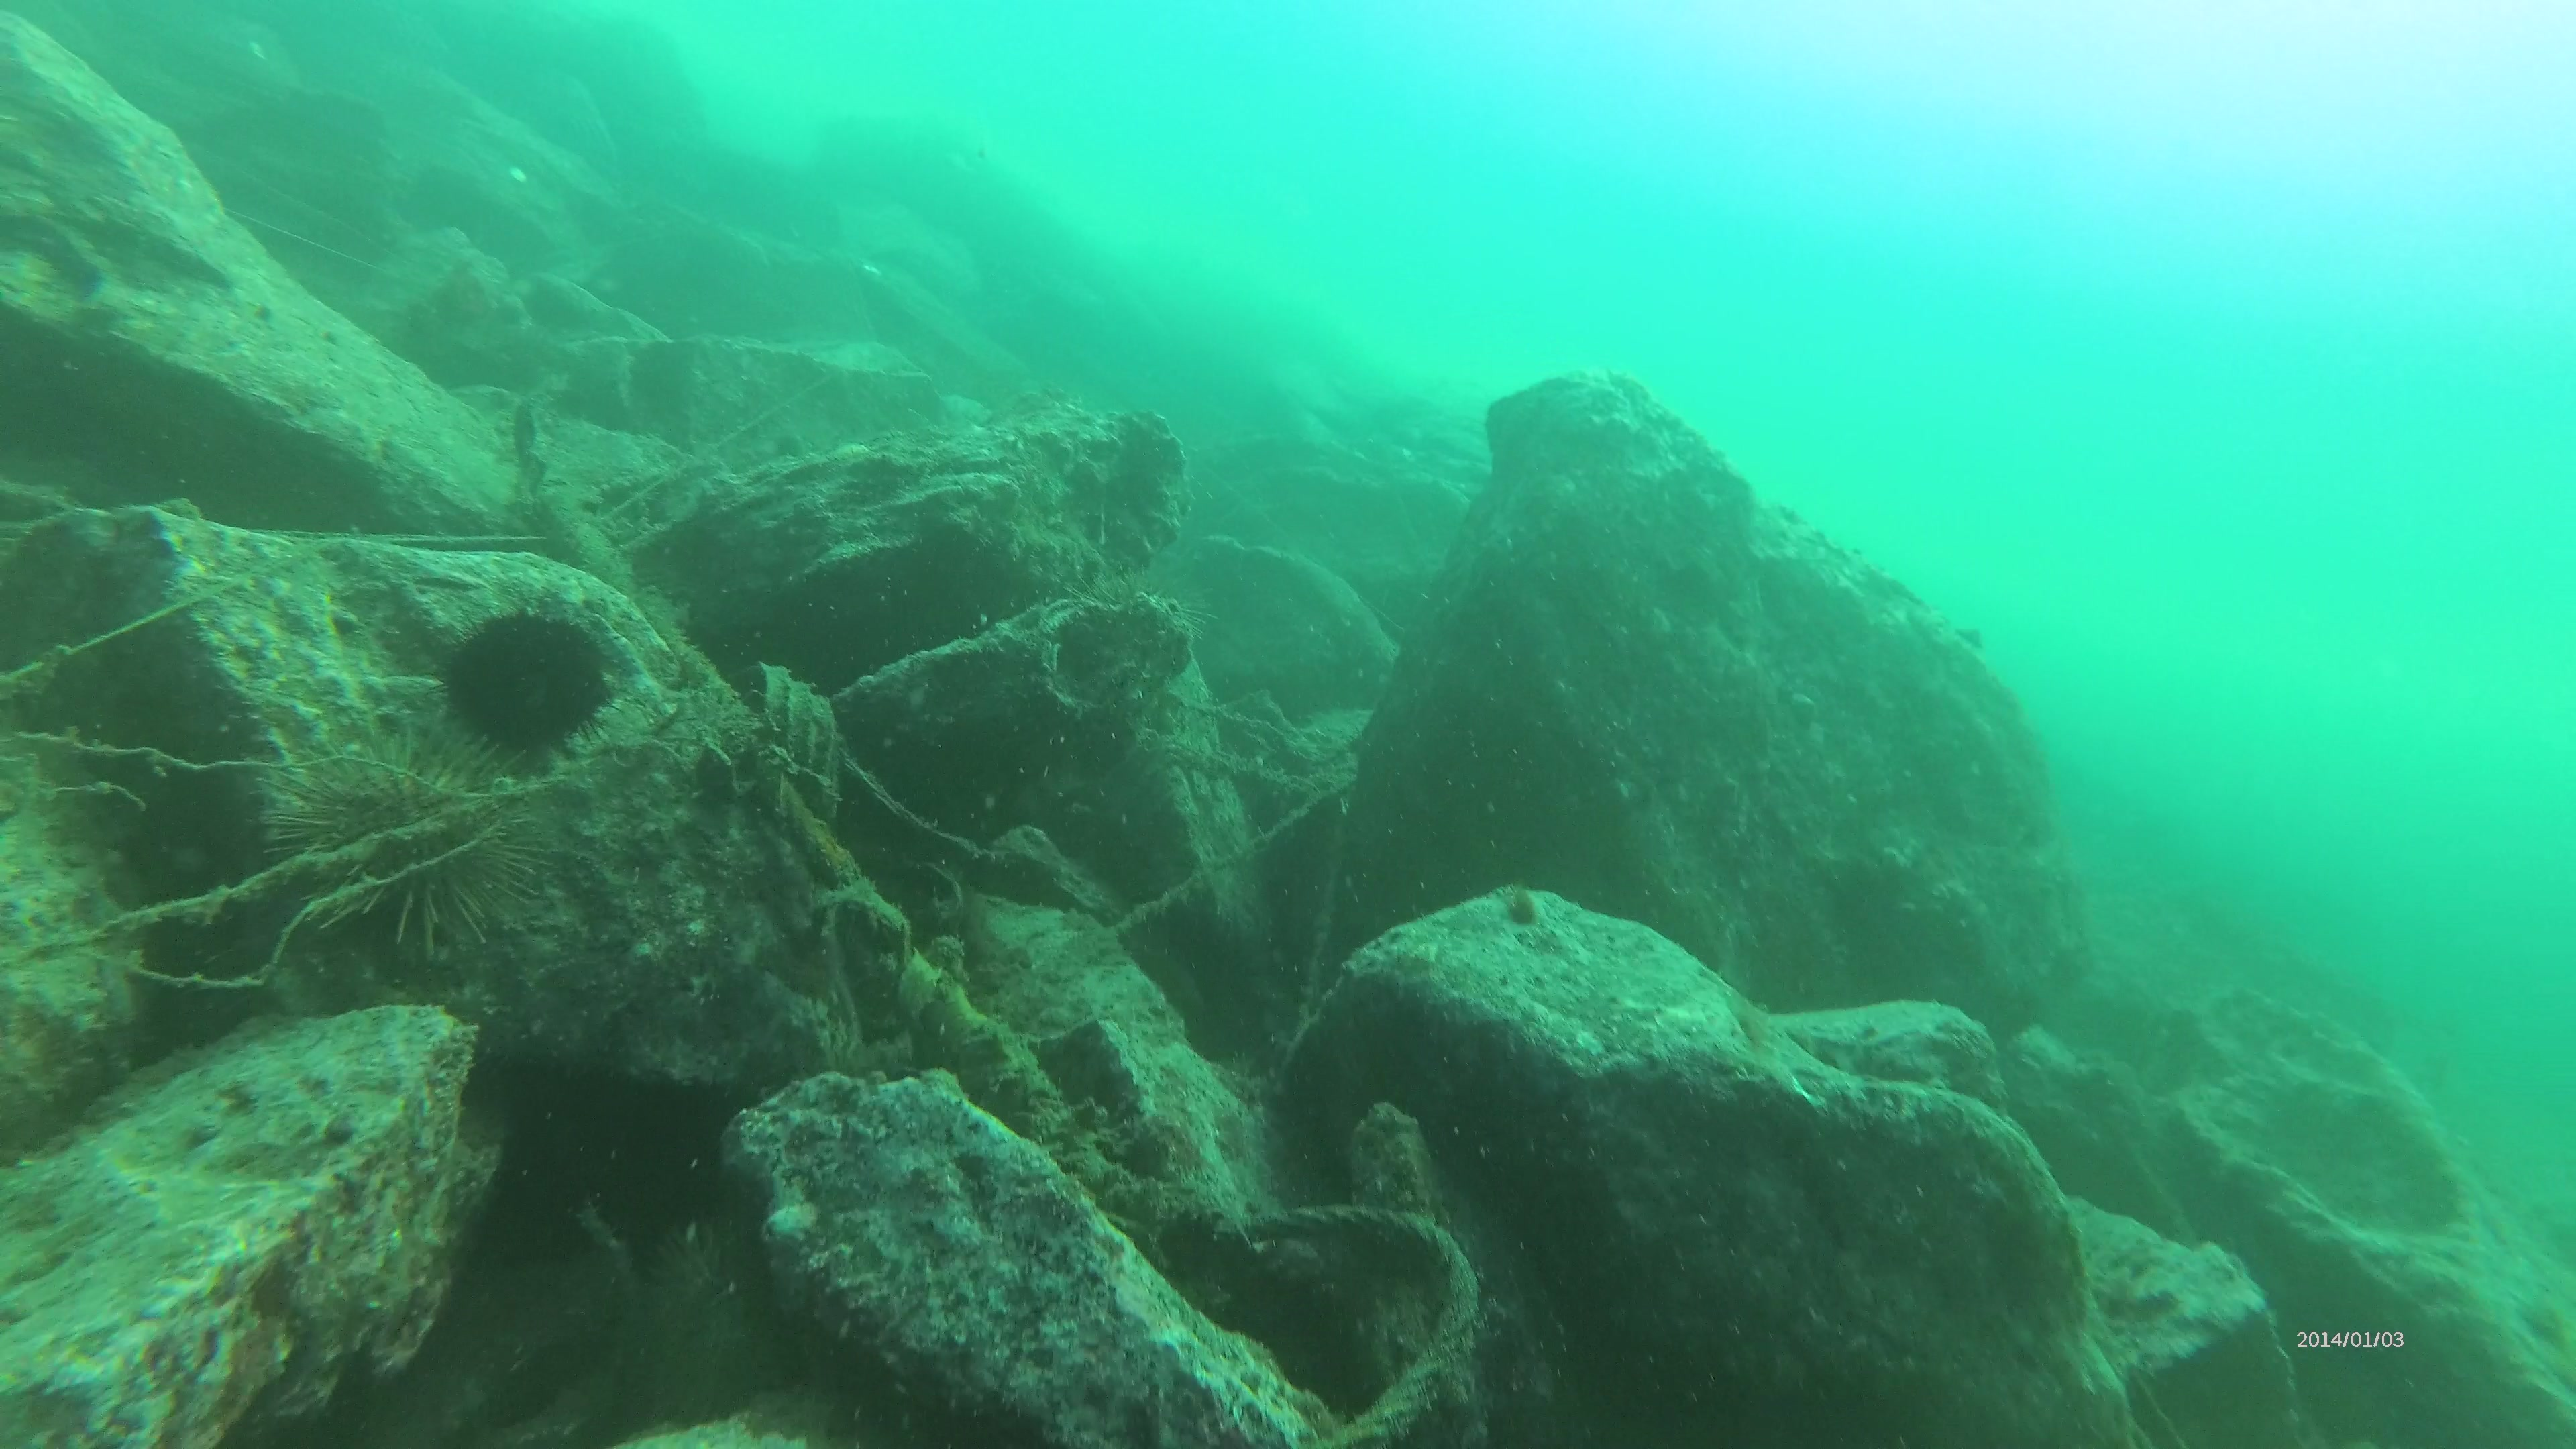echinus: (267, 717, 556, 964), (414, 593, 621, 766)
